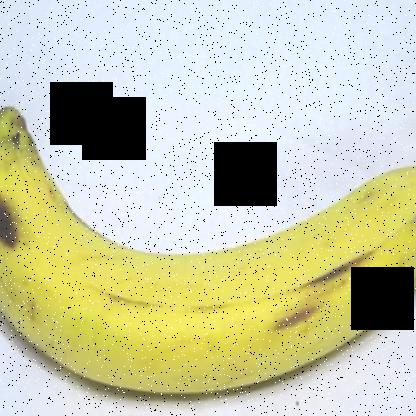freshripe: (1, 98, 415, 413)
